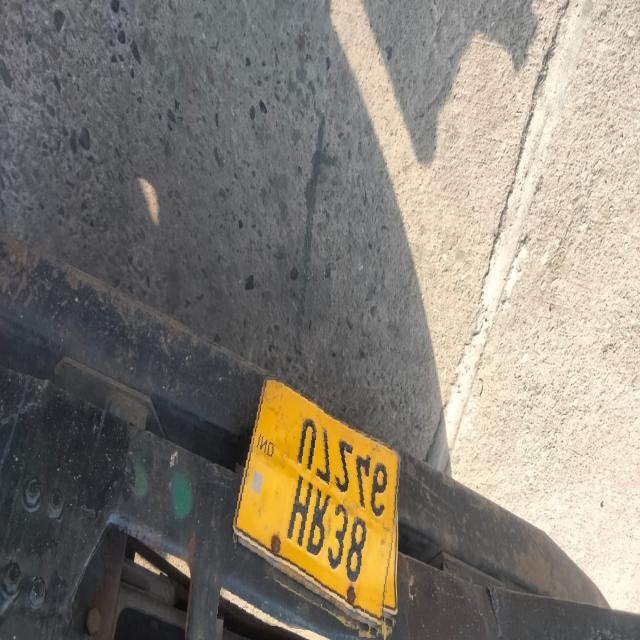License-plate: (227, 376, 402, 638)
